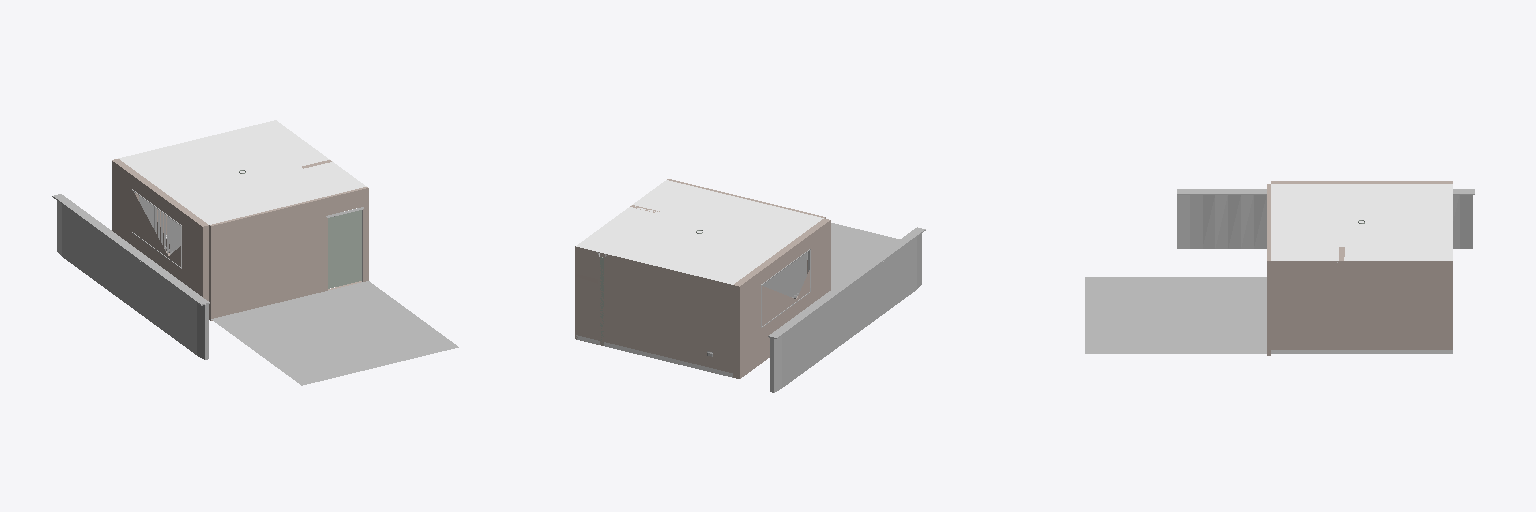
The model's file is philips-room.obj.
3 views of the same model, side by side, from view 1: azimuth 30°, elevation 25°; view 2: azimuth 150°, elevation 25°; view 3: azimuth 270°, elevation 25° (orthographic).
Visible parts, largest first — view 1: floor.002, floor.001, walls.003, Cube.003, walls, door, blinders; view 2: floor.001, walls.001, Cube.003, walls, floor.002, blinders, corners; view 3: walls.002, floor.002, floor.001, Cube.003, corners, walls.003, walls.
Boxes of the visible parts, box(x1,y1,x2,y2) form: floor.002: box(211, 281, 458, 385); floor.001: box(118, 120, 366, 224); walls.003: box(209, 187, 368, 320); Cube.003: box(52, 194, 209, 359); walls: box(112, 159, 331, 300); door: box(328, 210, 361, 288); blinders: box(139, 196, 180, 254); floor.001: box(576, 180, 823, 284); walls.001: box(575, 246, 732, 372); Cube.003: box(768, 227, 925, 392); walls: box(576, 205, 830, 378); floor.002: box(831, 223, 899, 289); blinders: box(762, 253, 806, 298); corners: box(576, 252, 732, 377); walls.002: box(1271, 261, 1452, 349); floor.002: box(1085, 277, 1266, 353); floor.001: box(1271, 184, 1452, 260); Cube.003: box(1177, 189, 1474, 248); corners: box(1271, 262, 1452, 353); walls.003: box(1267, 184, 1270, 355); walls: box(1271, 181, 1452, 260).
Size of the model in its own units: 26.96 by 11.6 by 42.74.